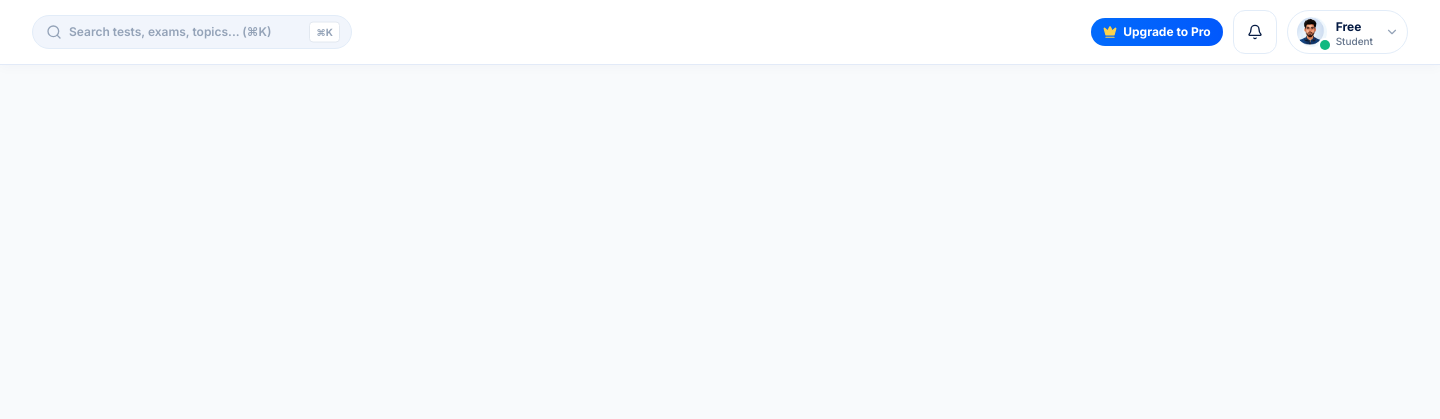
Test: StudentNavbar Notification Audience & Schedule Filtering › delivers free and free_users notices to Free candidates, and suppresses pro notices and future scheduled notices
// Open notification dropdown
Click the button titled "Notifications".
click(1255, 32)  # box [1233, 10, 1277, 54]
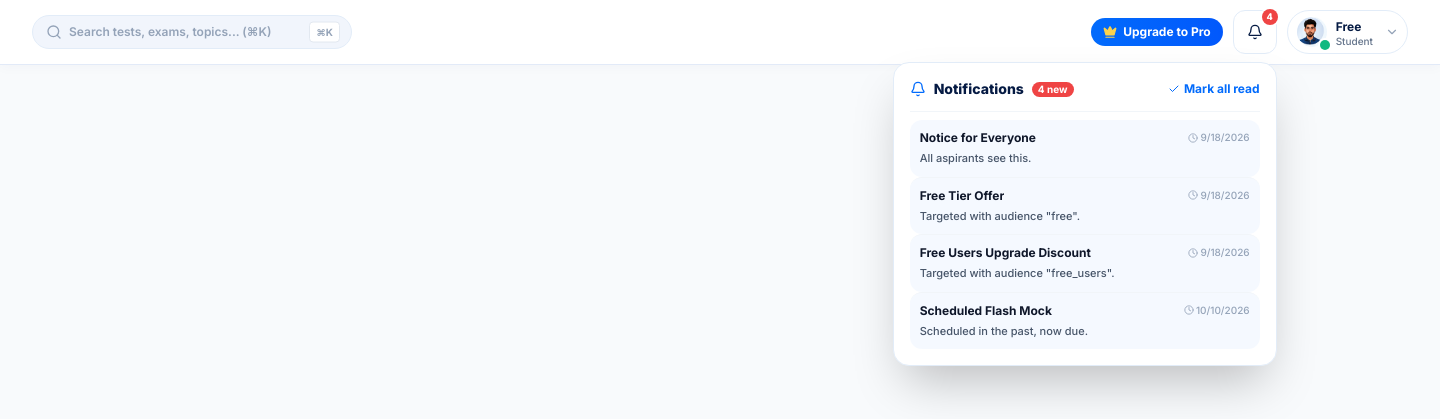
Expected: the heading "Notice for Everyone" is shown, [920, 130, 1036, 146]
Expected: the heading "Free Tier Offer" is shown, [920, 188, 1004, 204]
Expected: the heading "Free Users Upgrade Discount" is shown, [920, 245, 1091, 261]
